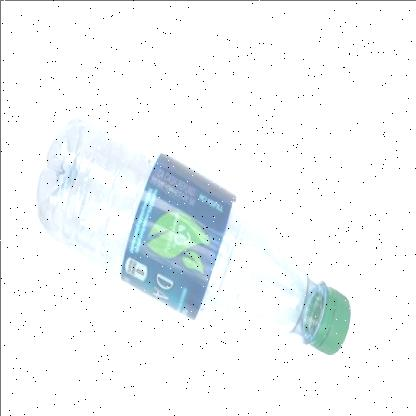Plastic Bottle: (37, 116, 350, 354)
